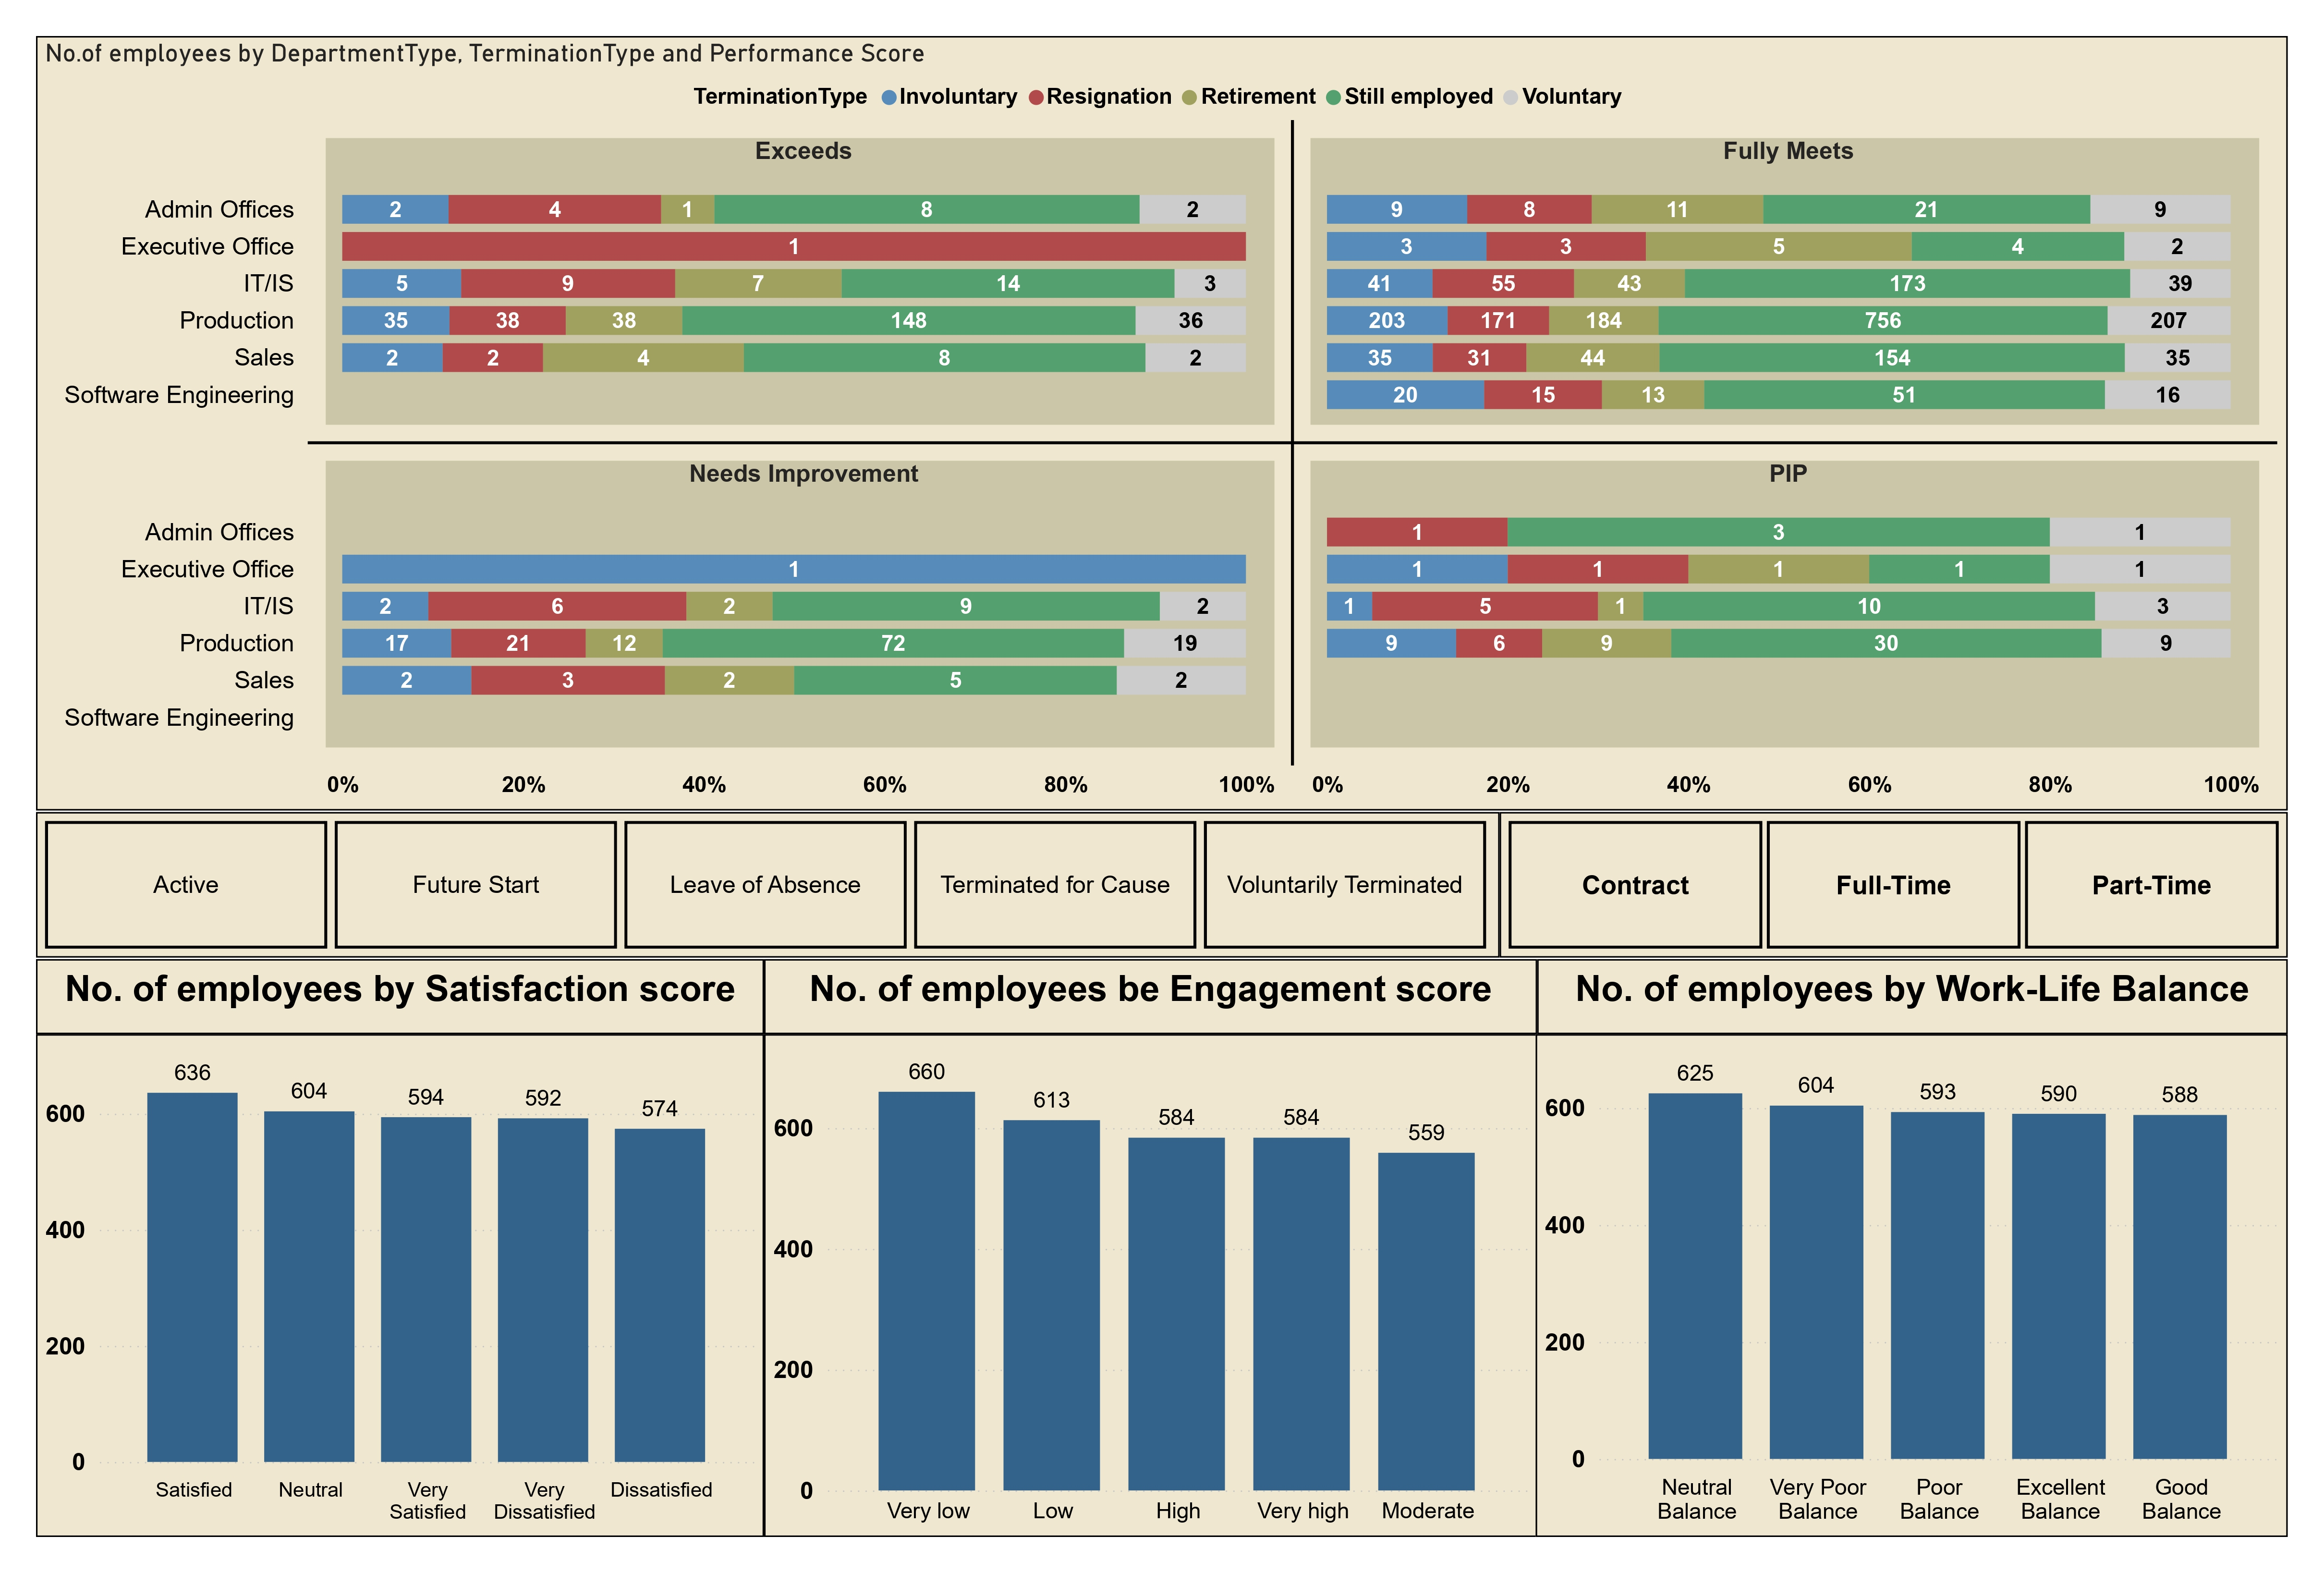

What the dashboard file says about the page in this screenshot:
{"tool":"powerbi","page":{"name":"Employee Engagement ","canvas":[1500,1000],"ordinal":1},"visuals":[{"type":"clusteredColumnChart","fields":{"Y":["employee_data.No.of employees"],"Category":["employee_engagement_survey_data.Satisfaction"]},"box":[0,665.5,485.5,334.5],"z":0},{"type":"columnChart","fields":{"Category":["employee_engagement_survey_data.Engagement Category"],"Y":["employee_data.No.of employees"]},"box":[485.5,665.5,514.5,334.5],"z":1000},{"type":"clusteredColumnChart","fields":{"Y":["employee_data.No.of employees"],"Category":["employee_engagement_survey_data.Work-Life Balance Category"]},"box":[999.1,664.5,500.9,335.5],"z":2000},{"type":"textbox","box":[1000,614.5,500,50.9],"z":3000},{"type":"textbox","box":[485.5,614.5,514.5,50.9],"z":4000},{"type":"textbox","box":[0,614.5,485.5,50.9],"z":5000},{"type":"hundredPercentStackedBarChart","fields":{"Category":["employee_data.DepartmentType"],"Series":["employee_data.TerminationType"],"Y":["employee_data.No.of employees"],"Rows":["employee_data.Performance Score"]},"box":[0,0,1500,516.4],"z":6000},{"type":"advancedSlicerVisual","fields":{"Values":["employee_data.EmployeeType"]},"box":[975.1,516.8,524.9,96.9],"z":7000},{"type":"advancedSlicerVisual","fields":{"Values":["employee_data.EmployeeStatus"]},"box":[0,516.8,975.1,96.9],"z":8000}]}

Visuals, with their boxes in screenshot pixels (x1, y1, x2, y2):
clusteredColumnChart - employee_data.No.of employees x employee_engagement_survey_data.Satisfaction: bbox(36, 1035, 765, 1537)
columnChart - employee_engagement_survey_data.Engagement Category x employee_data.No.of employees: bbox(765, 1035, 1537, 1537)
clusteredColumnChart - employee_data.No.of employees x employee_engagement_survey_data.Work-Life Balance Category: bbox(1536, 1034, 2288, 1537)
textbox: bbox(1537, 958, 2288, 1035)
textbox: bbox(765, 958, 1537, 1035)
textbox: bbox(36, 958, 765, 1035)
hundredPercentStackedBarChart - employee_data.DepartmentType x employee_data.TerminationType: bbox(36, 36, 2288, 811)
advancedSlicerVisual - employee_data.EmployeeType: bbox(1500, 812, 2288, 957)
advancedSlicerVisual - employee_data.EmployeeStatus: bbox(36, 812, 1500, 957)
